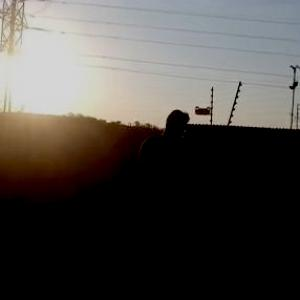follow: (133, 105, 197, 299)
